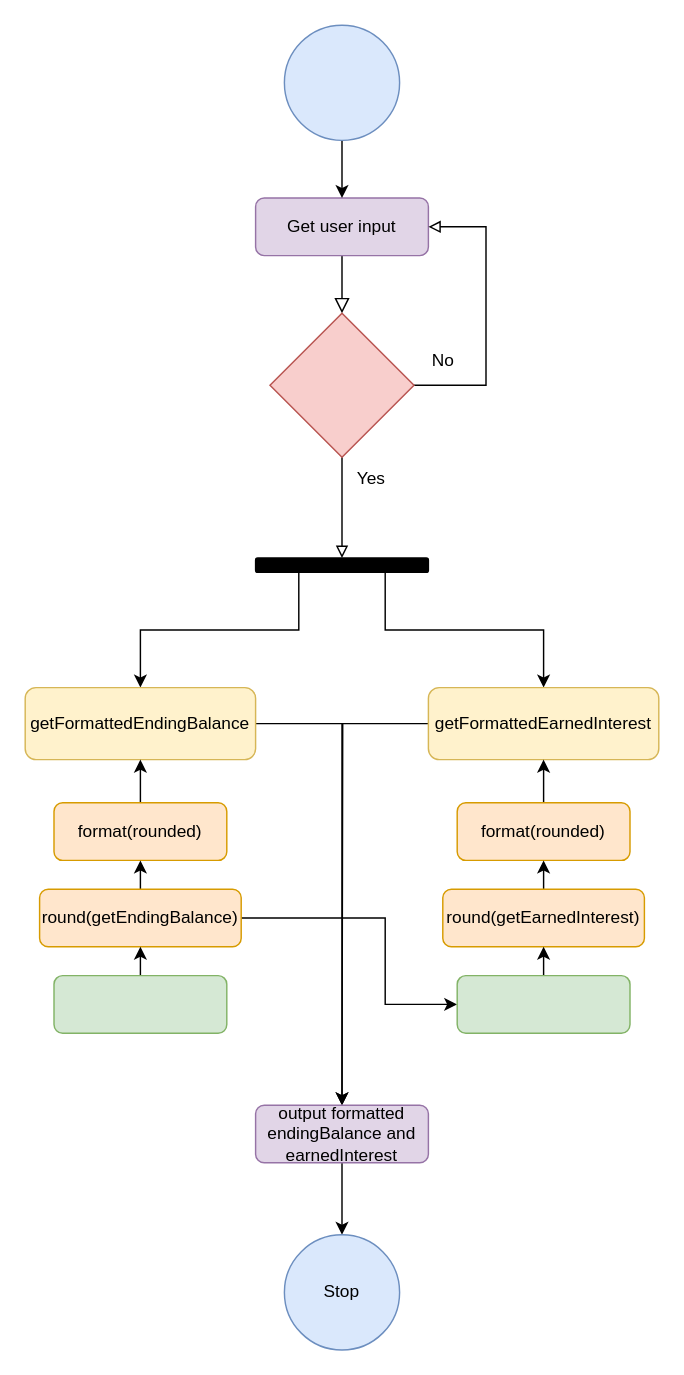
Some shapes in this 684 by 1375 pixel diagram are drawn without their labels. Each missing label, with the centre of its shape:
"calculate Earned Interest" belongs at point (543, 1003).
"calculate Ending Balance" belongs at point (140, 1003).
"Is user input a positive number?" belongs at point (341, 384).
"Start" belongs at point (341, 82).
